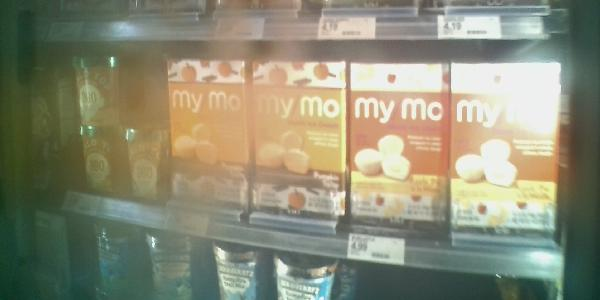icecream: (449, 62, 558, 241), (348, 59, 448, 236), (61, 47, 168, 210), (249, 54, 346, 224), (166, 51, 252, 226)
